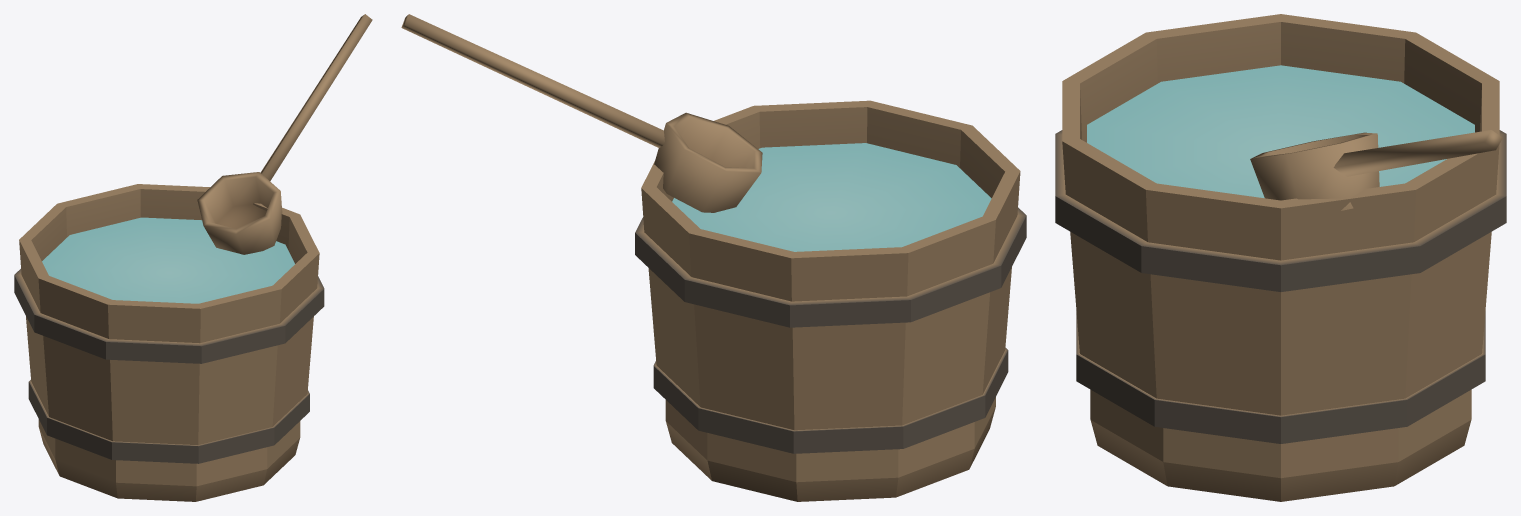
The model's file is east_bucket.glb.
3 renders of one model, left to right at view 1: azimuth 30°, elevation 25°; view 2: azimuth 150°, elevation 25°; view 3: azimuth 270°, elevation 25°, orthographic. The views are drawn at different scales.
Visible parts, largest first — view 1: east_bucket; view 2: east_bucket; view 3: east_bucket.
Boxes of the visible parts, left/top/right/bottom form: east_bucket: left=14, top=14, right=372, bottom=501; east_bucket: left=401, top=14, right=1026, bottom=501; east_bucket: left=1055, top=14, right=1506, bottom=501.
Size of the model in its own units: 0.9603 by 0.7251 by 0.6087.
